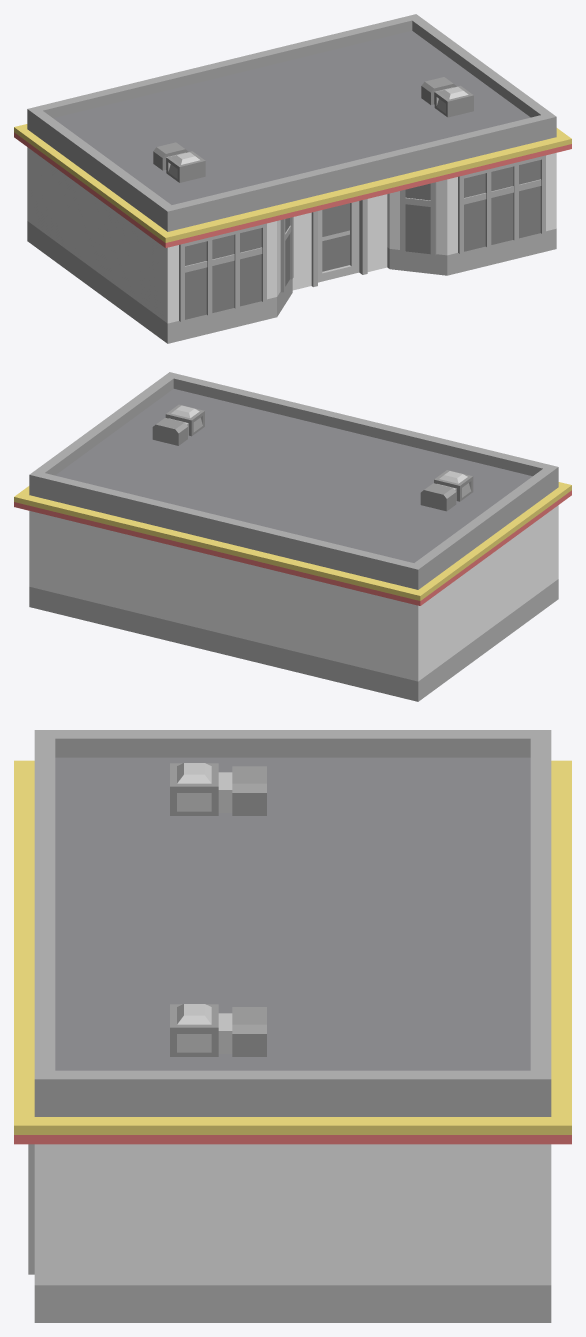
The model's file is building_gray_gasstation.fbx.
The picture shows the model from 3 angles, top to bottom: view 1: azimuth 30°, elevation 25°; view 2: azimuth 150°, elevation 25°; view 3: azimuth 270°, elevation 25°; orthographic projection. The views are drawn at different scales.
Visible parts, largest first — view 1: building_gray_gasstation; view 2: building_gray_gasstation; view 3: building_gray_gasstation.
Boxes of the visible parts, x1,y1,x2,y2 form: building_gray_gasstation: [14, 14, 571, 343]; building_gray_gasstation: [14, 372, 571, 701]; building_gray_gasstation: [14, 730, 571, 1322].
Size of the model in its own units: 418 by 139 by 270.
